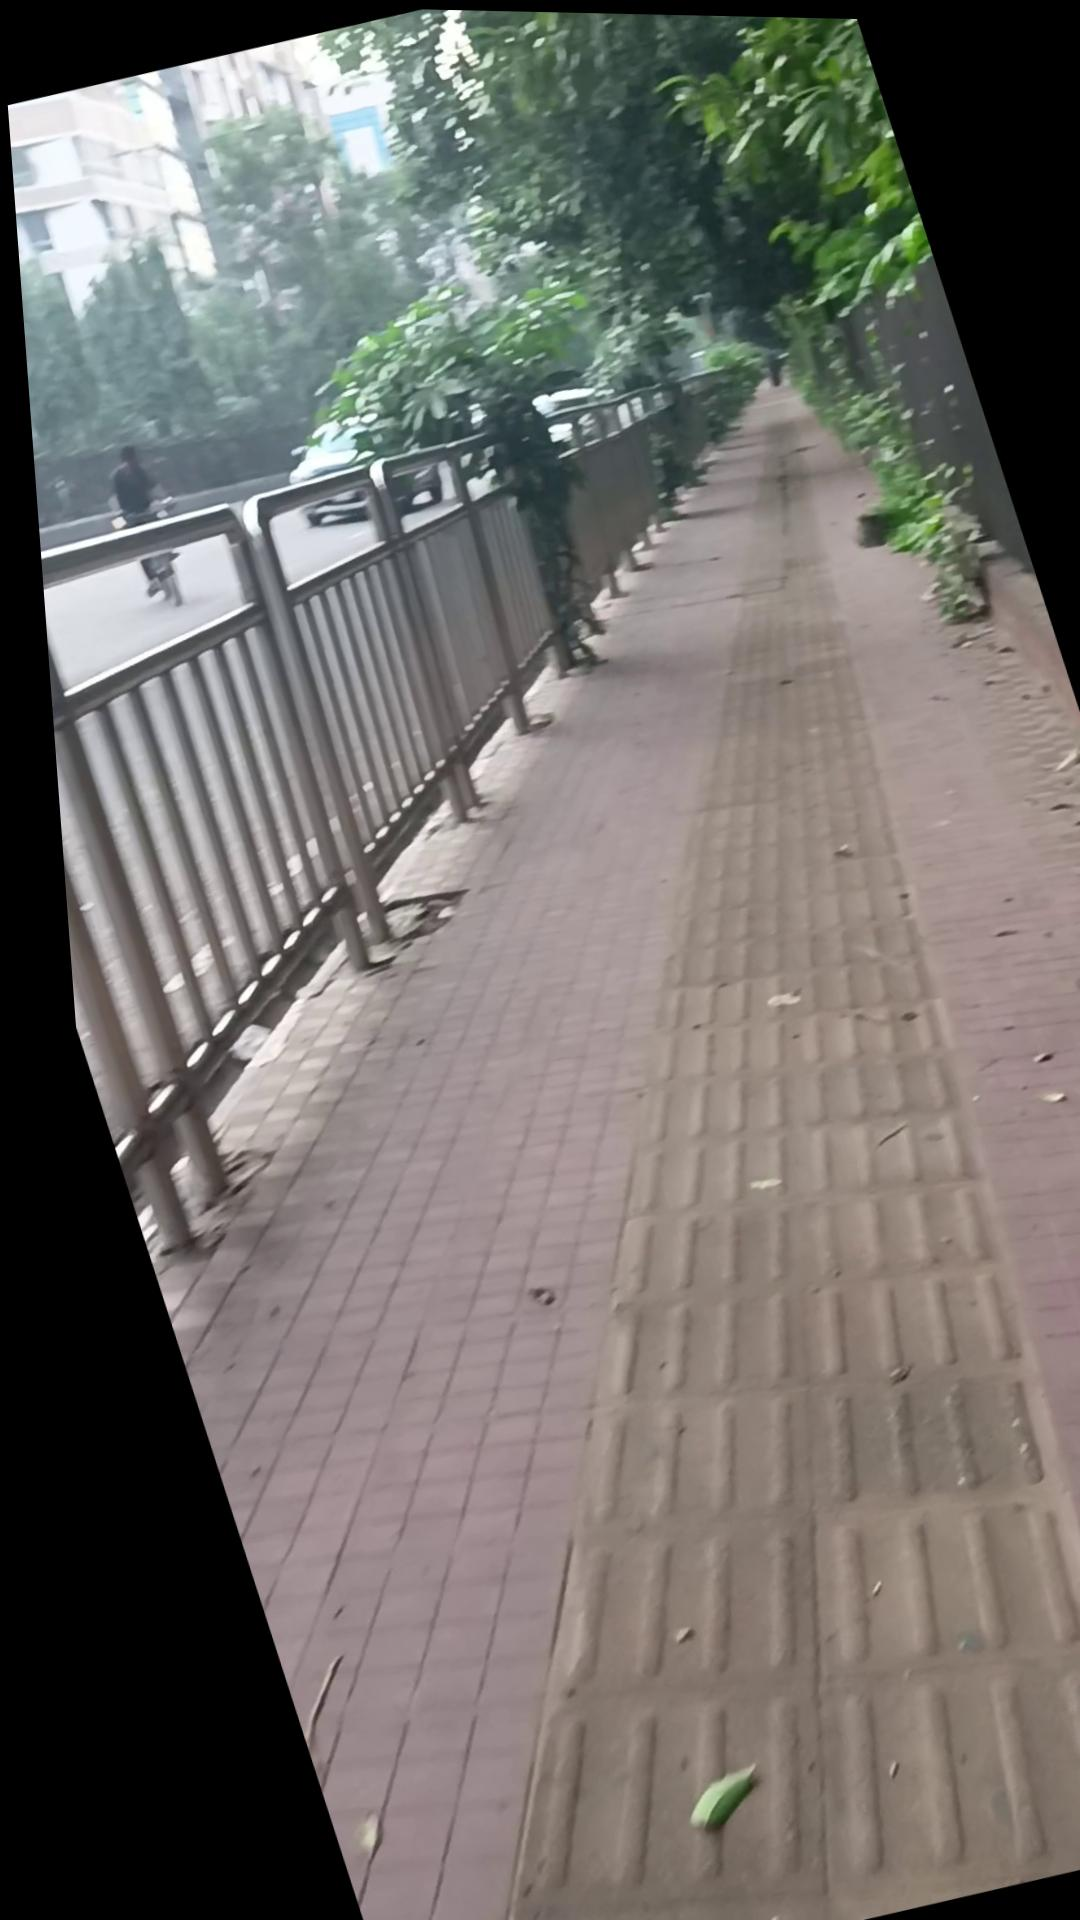Muddy road: (90, 436, 195, 608)
Potted-plant: (17, 301, 1080, 1920)
